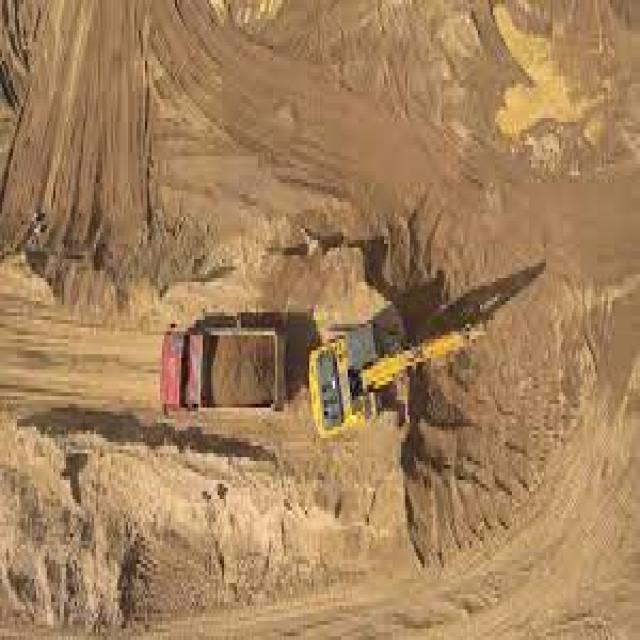excavator: (307, 324, 480, 438)
